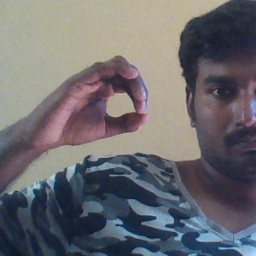O: (25, 53, 151, 152)
